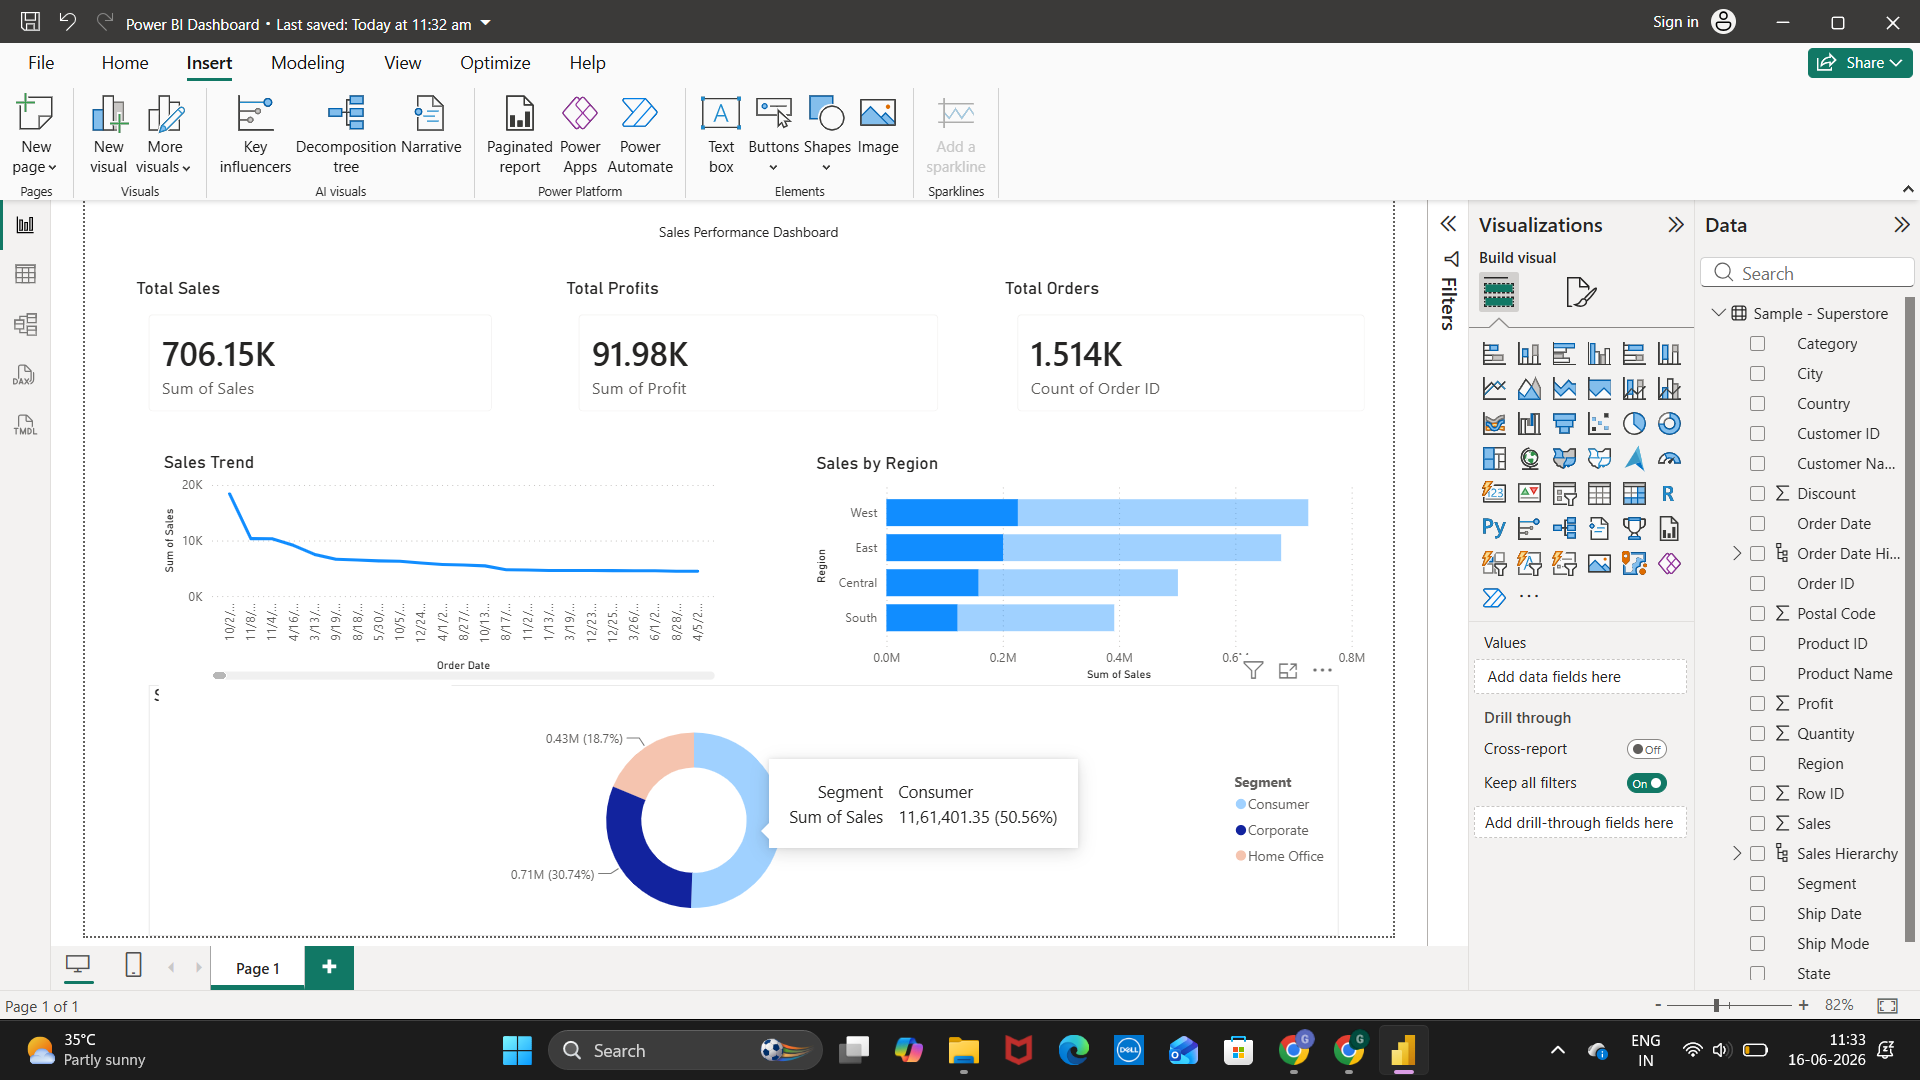

The page's visual inventory and layout, read from the dashboard file:
{"tool":"powerbi","page":{"name":"Page 1","canvas":[1280,720],"ordinal":0},"visuals":[{"type":"cardVisual","title":"Total Sales","fields":{"Data":["Sum(Sample - Superstore.Sales)"]},"box":[45.2,75.8,370.5,149.2],"z":0},{"type":"cardVisual","title":"Total Profits","fields":{"Data":["Sum(Sample - Superstore.Profit)"]},"box":[465.9,75.8,386.4,149.2],"z":1000},{"type":"cardVisual","title":"Total Orders","fields":{"Data":["Count(Sample - Superstore.Order ID)"]},"box":[895.1,75.8,374.2,149.2],"z":2000},{"type":"lineChart","title":"Sales Trend","fields":{"Y":["Sum(Sample - Superstore.Sales)"],"Category":["Sample - Superstore.Order Date"]},"box":[72.1,245.8,549.1,228.7],"z":3000},{"type":"clusteredBarChart","title":"Sales by Region","fields":{"Category":["Sample - Superstore.Region"],"Y":["Sum(Sample - Superstore.Sales)"]},"box":[710.5,247,547.8,228.7],"z":4000},{"type":"donutChart","title":"Sales by Segment","fields":{"Category":["Sample - Superstore.Segment"],"Y":["Sum(Sample - Superstore.Sales)"]},"box":[62.4,474.5,1164.1,245.8],"z":5000},{"type":"textbox","box":[72,475,286,245],"z":5001},{"type":"textbox","box":[100.3,13.5,1098.1,33],"z":5002}]}

Visuals, with their boxes on the page's 1280x720 design canvas (x1, y1, x2, y2). These are canvas units, not pixel positions in the 1920x1080 screenshot, which may show the page scaled, cropped or inside an application window:
"Total Sales" cardVisual: x1=45 y1=76 x2=416 y2=225
"Total Profits" cardVisual: x1=466 y1=76 x2=852 y2=225
"Total Orders" cardVisual: x1=895 y1=76 x2=1269 y2=225
"Sales Trend" lineChart: x1=72 y1=246 x2=621 y2=474
"Sales by Region" clusteredBarChart: x1=710 y1=247 x2=1258 y2=476
"Sales by Segment" donutChart: x1=62 y1=474 x2=1226 y2=720
textbox: x1=72 y1=475 x2=358 y2=720
textbox: x1=100 y1=14 x2=1198 y2=46
